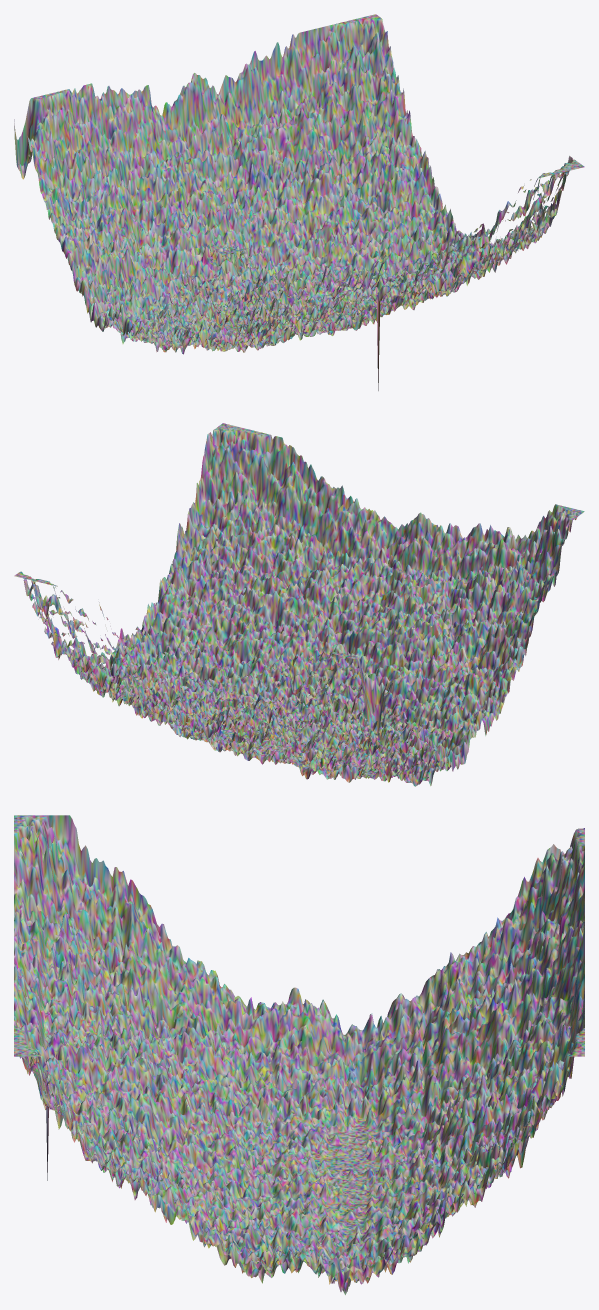
The model's file is dsm_e9a6b656aa_mesh.glb.
3 renders of one model, top to bottom at view 1: azimuth 30°, elevation 25°; view 2: azimuth 150°, elevation 25°; view 3: azimuth 270°, elevation 25°, orthographic. The views are drawn at different scales.
Parts seen in each view (by area): view 1: geometry_0; view 2: geometry_0; view 3: geometry_0.
Boxes of the visible parts, bbox=[...] form: geometry_0: bbox=[14, 14, 584, 390]; geometry_0: bbox=[14, 423, 584, 786]; geometry_0: bbox=[14, 815, 584, 1294].
Size of the model in its own units: 2 by 1 by 2.
